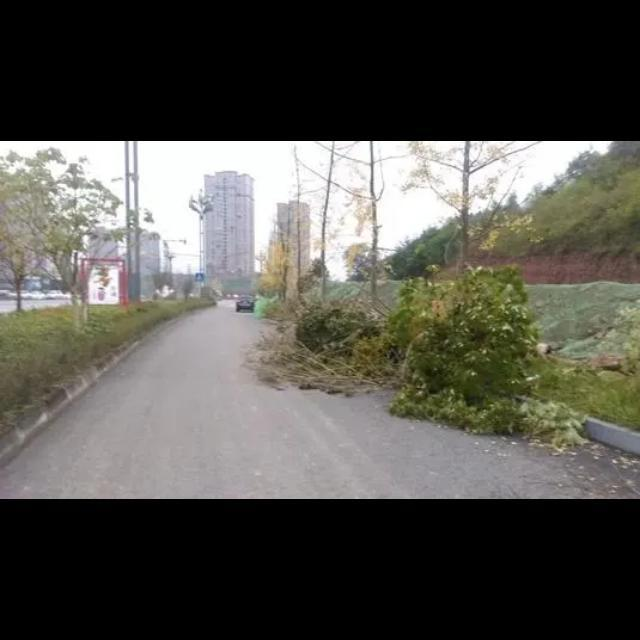fallen_tree: (401, 272, 639, 448), (248, 280, 404, 398)
